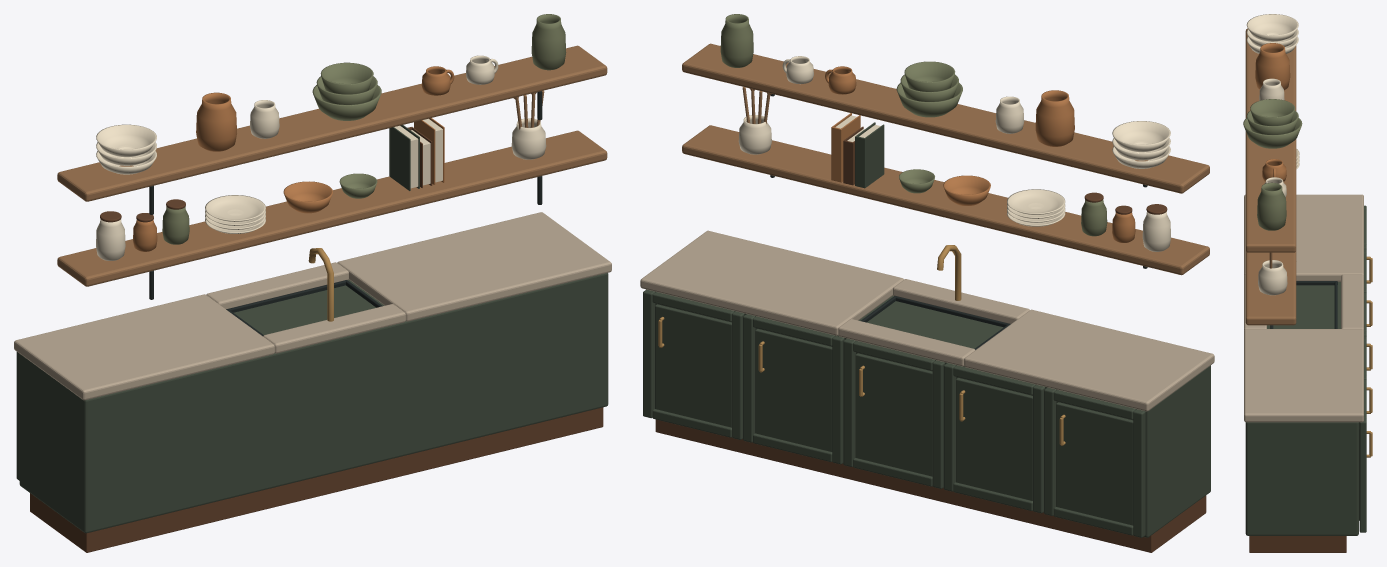
File: kitchen.glb
The picture shows the model from 3 angles, left to right: view 1: azimuth 30°, elevation 25°; view 2: azimuth 150°, elevation 25°; view 3: azimuth 270°, elevation 25°; orthographic projection. The views are drawn at different scales.
Parts seen in each view (by area): view 1: kitchen__paint_sage, kitchen__stone_cream, kitchen__wood_oak, kitchen__wood_walnut, kitchen__ceramic_ivory, kitchen__ceramic_sage, kitchen__ceramic_ochre, kitchen__metal_iron; view 2: kitchen__paint_sage, kitchen__stone_cream, kitchen__wood_oak, kitchen__wood_walnut, kitchen__ceramic_ivory, kitchen__ceramic_sage, kitchen__ceramic_ochre, kitchen__metal_brass, kitchen__metal_iron; view 3: kitchen__stone_cream, kitchen__paint_sage, kitchen__wood_oak, kitchen__ceramic_sage, kitchen__ceramic_ivory, kitchen__ceramic_ochre, kitchen__wood_walnut, kitchen__metal_brass, kitchen__metal_iron.
Boxes of the visible parts, bbox=[...] form: kitchen__paint_sage: bbox=[16, 125, 608, 533]; kitchen__stone_cream: bbox=[14, 212, 611, 400]; kitchen__wood_oak: bbox=[57, 45, 607, 286]; kitchen__wood_walnut: bbox=[30, 127, 603, 552]; kitchen__ceramic_ivory: bbox=[96, 55, 546, 260]; kitchen__ceramic_sage: bbox=[162, 14, 566, 244]; kitchen__ceramic_ochre: bbox=[133, 66, 454, 251]; kitchen__metal_iron: bbox=[149, 91, 542, 336]; kitchen__paint_sage: bbox=[643, 122, 1210, 537]; kitchen__stone_cream: bbox=[640, 230, 1214, 411]; kitchen__wood_oak: bbox=[682, 43, 1209, 275]; kitchen__wood_walnut: bbox=[655, 126, 1206, 552]; kitchen__ceramic_ivory: bbox=[738, 56, 1170, 251]; kitchen__ceramic_sage: bbox=[720, 14, 1107, 236]; kitchen__ceramic_ochre: bbox=[825, 66, 1135, 242]; kitchen__metal_brass: bbox=[658, 245, 1065, 445]; kitchen__metal_iron: bbox=[770, 94, 1147, 349]; kitchen__stone_cream: bbox=[1244, 194, 1363, 422]; kitchen__paint_sage: bbox=[1245, 205, 1366, 535]; kitchen__wood_oak: bbox=[1245, 28, 1296, 325]; kitchen__ceramic_sage: bbox=[1243, 99, 1302, 230]; kitchen__ceramic_ivory: bbox=[1246, 14, 1299, 295]; kitchen__ceramic_ochre: bbox=[1255, 43, 1290, 181]; kitchen__wood_walnut: bbox=[1249, 536, 1346, 552]; kitchen__metal_brass: bbox=[1366, 256, 1372, 457]; kitchen__metal_iron: bbox=[1270, 281, 1337, 328].
Size of the model in its own units: 3 by 2.22 by 0.745.
